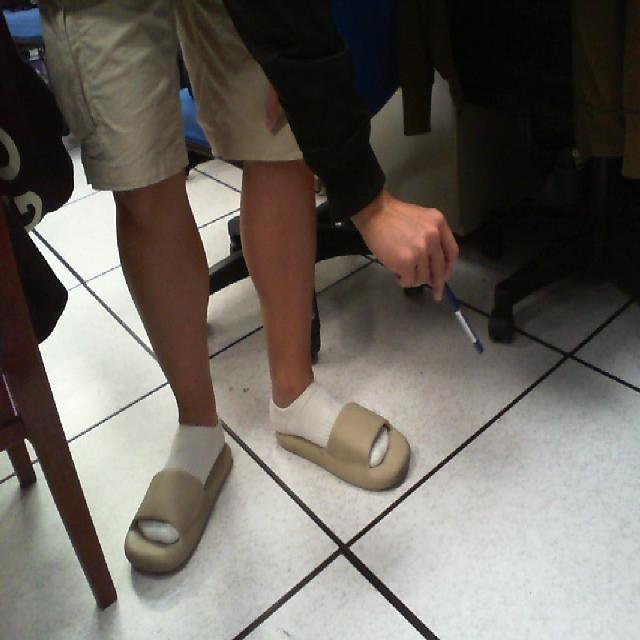Pen: (435, 271, 500, 365)
